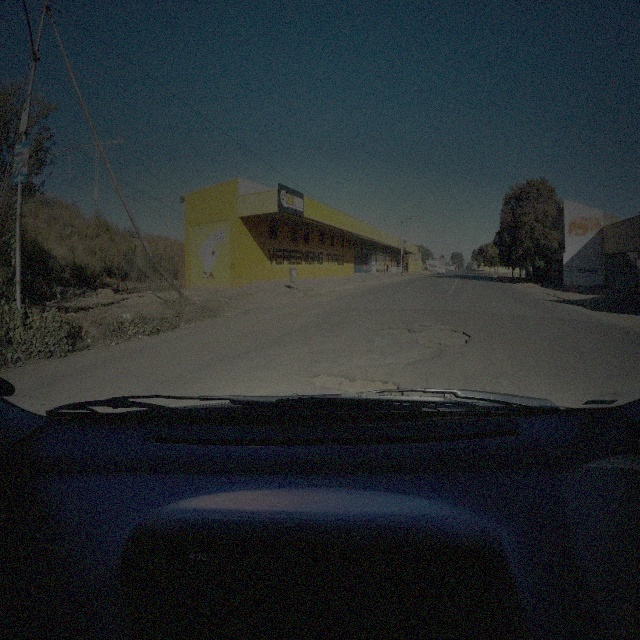pothole: (307, 368, 405, 394), (414, 325, 472, 348), (378, 324, 411, 337)
